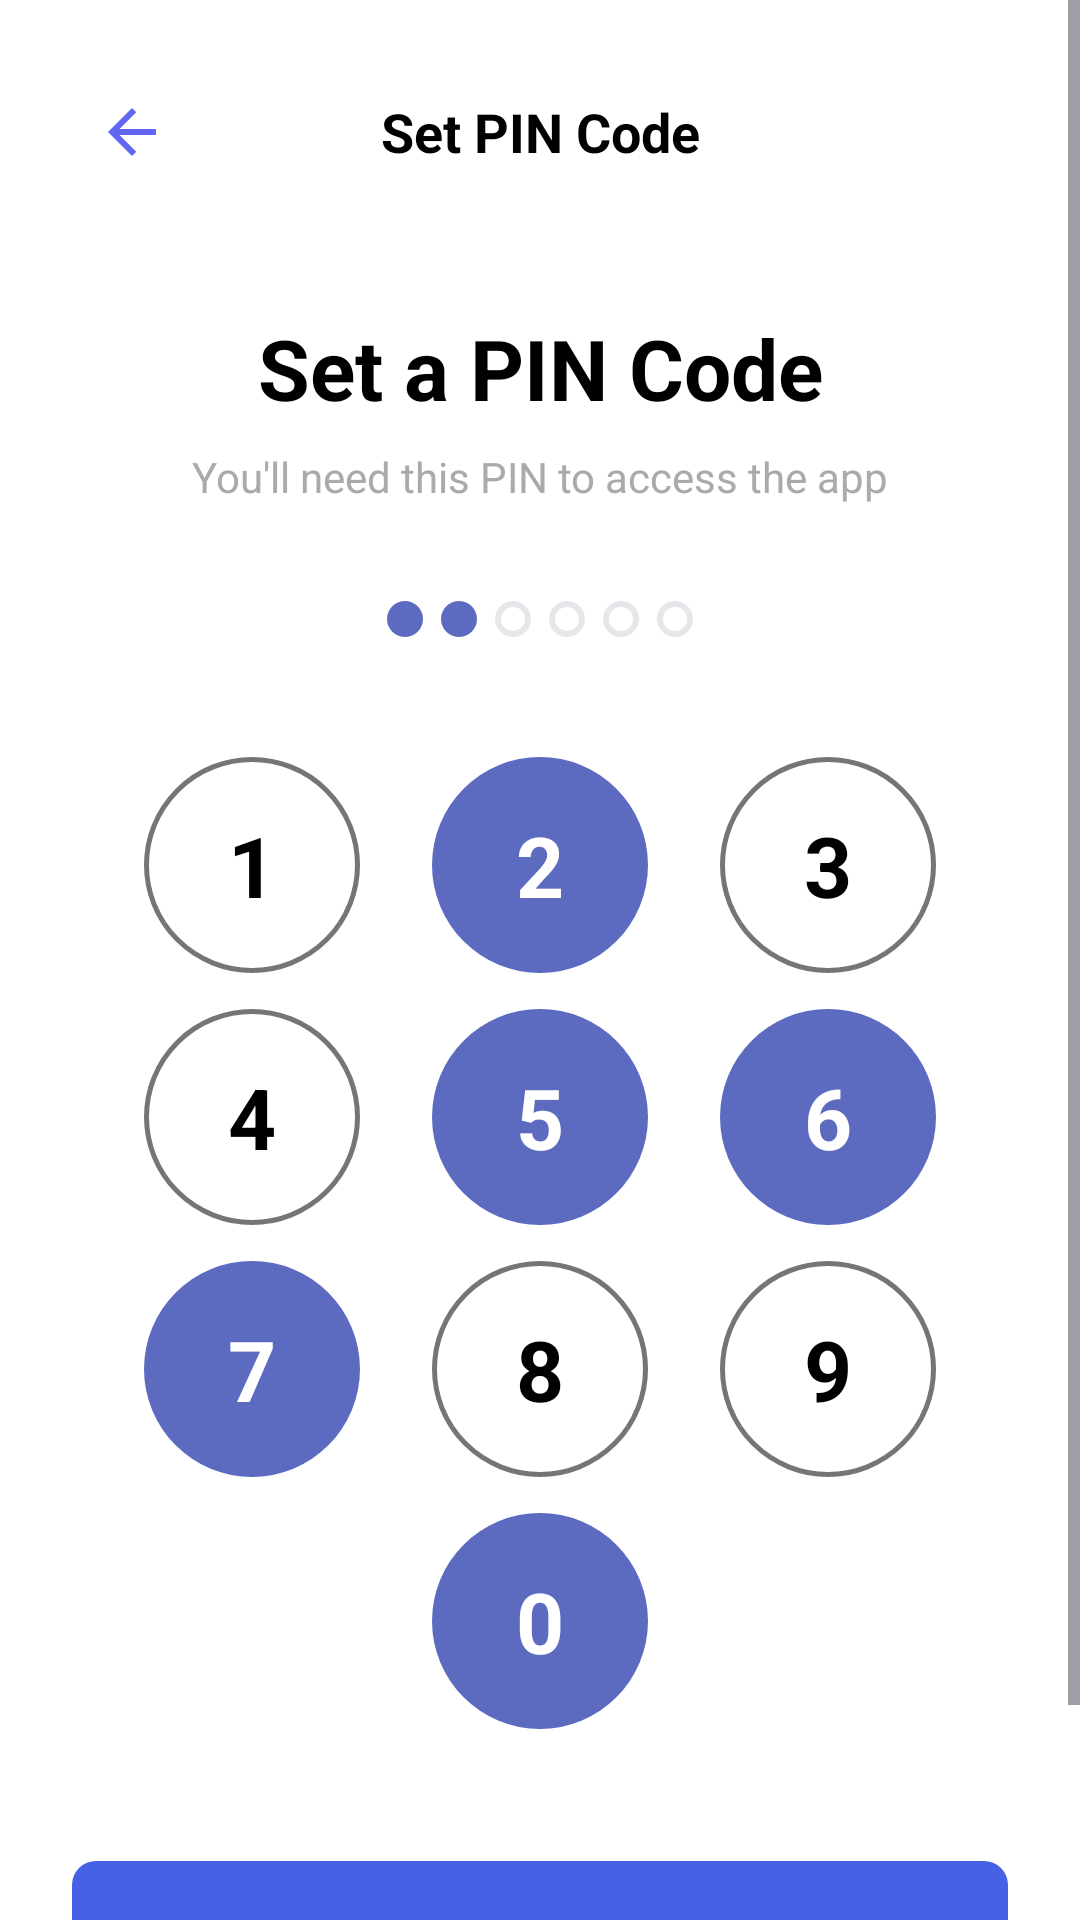

Named icons in this screenshot (1080px x 1920px) and their bounding boxes, [x1, y1, x2, y2]:
Back: [108, 108, 156, 156]
pin dot: [387, 601, 423, 637], [441, 601, 477, 637]
pin dot empty: [495, 601, 531, 637], [549, 601, 585, 637], [603, 601, 639, 637], [657, 601, 693, 637]
